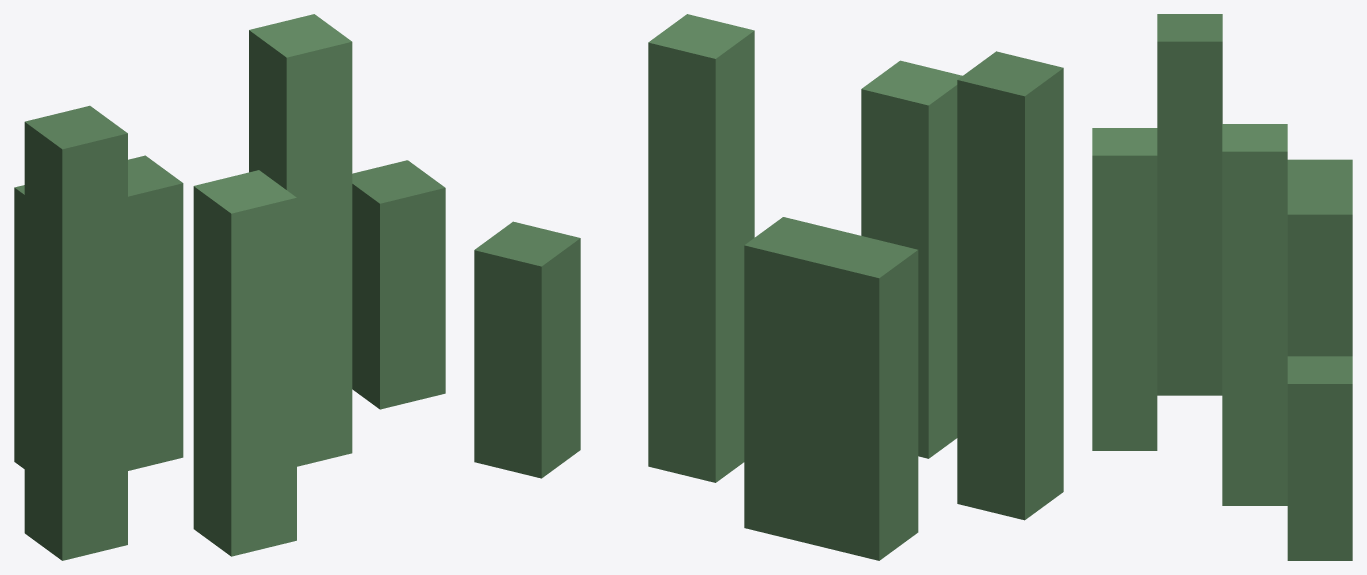
File: enredadera_03.glb
The picture shows the model from 3 angles, left to right: view 1: azimuth 30°, elevation 25°; view 2: azimuth 150°, elevation 25°; view 3: azimuth 270°, elevation 25°; orthographic projection. The views are drawn at different scales.
Parts seen in each view (by area): view 1: enredadera_03; view 2: enredadera_03; view 3: enredadera_03.
Boxes of the visible parts, box(x1,y1,x2,y2) form: enredadera_03: box(14, 14, 445, 560); enredadera_03: box(474, 14, 1063, 560); enredadera_03: box(1092, 14, 1352, 560).
Size of the model in its own units: 0.7 by 0.6 by 0.4.
